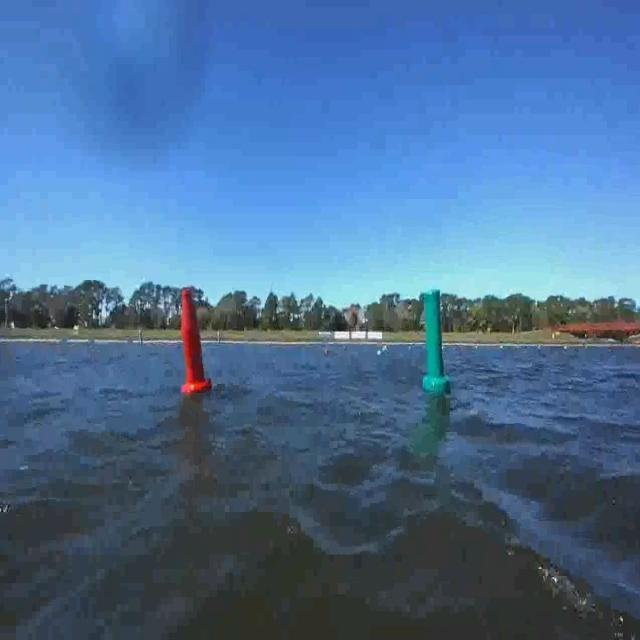green-column-buoy: (422, 283, 452, 394)
red-column-buoy: (179, 287, 211, 394)
